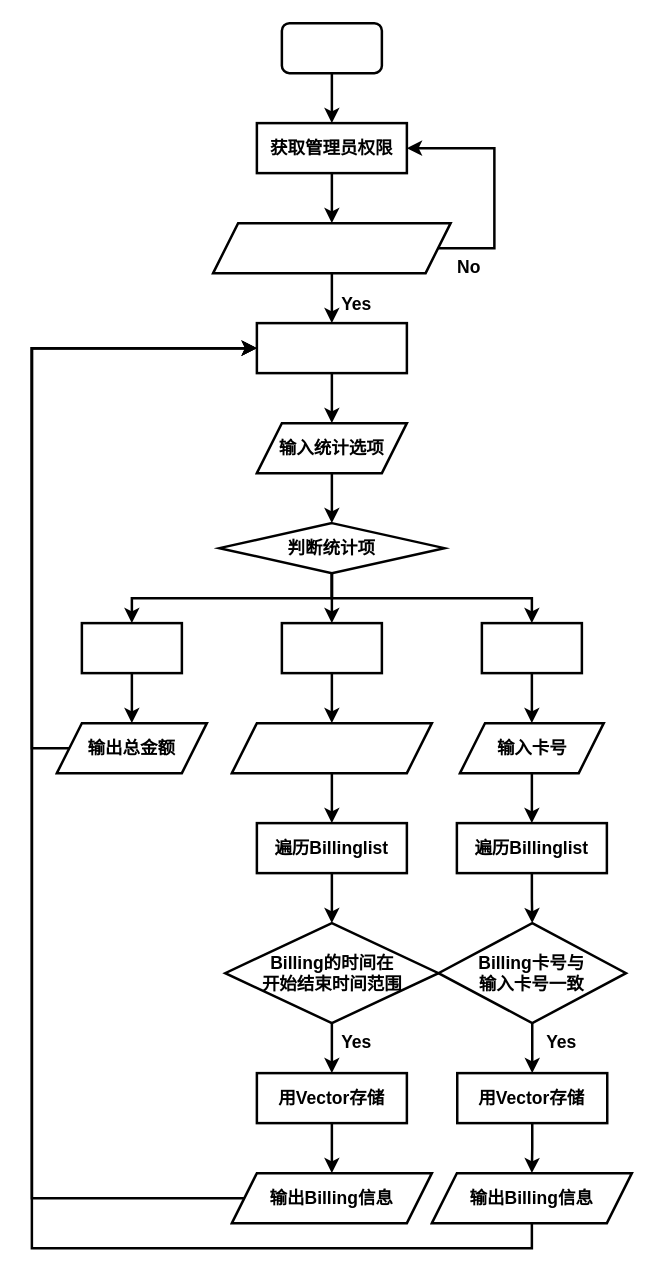
This 654x1280 diagram has some shape labels left out. The shapes that lost their labels are listed below. From the top down, each one's centre as x and y in pixels, then its label:
point (331, 47): 开始
point (331, 247): 输入管理员账号，密码
point (331, 347): 展示统计页面
point (131, 647): 总金额
point (331, 647): 时间统计
point (531, 647): 卡号统计
point (331, 747): 输入开始结束时间
